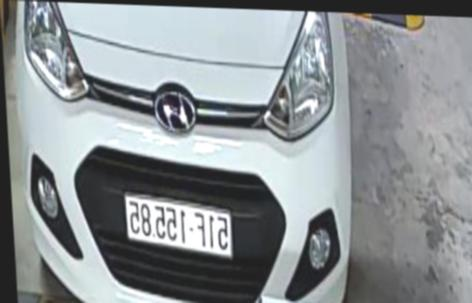License_Plate: (116, 190, 238, 257)
